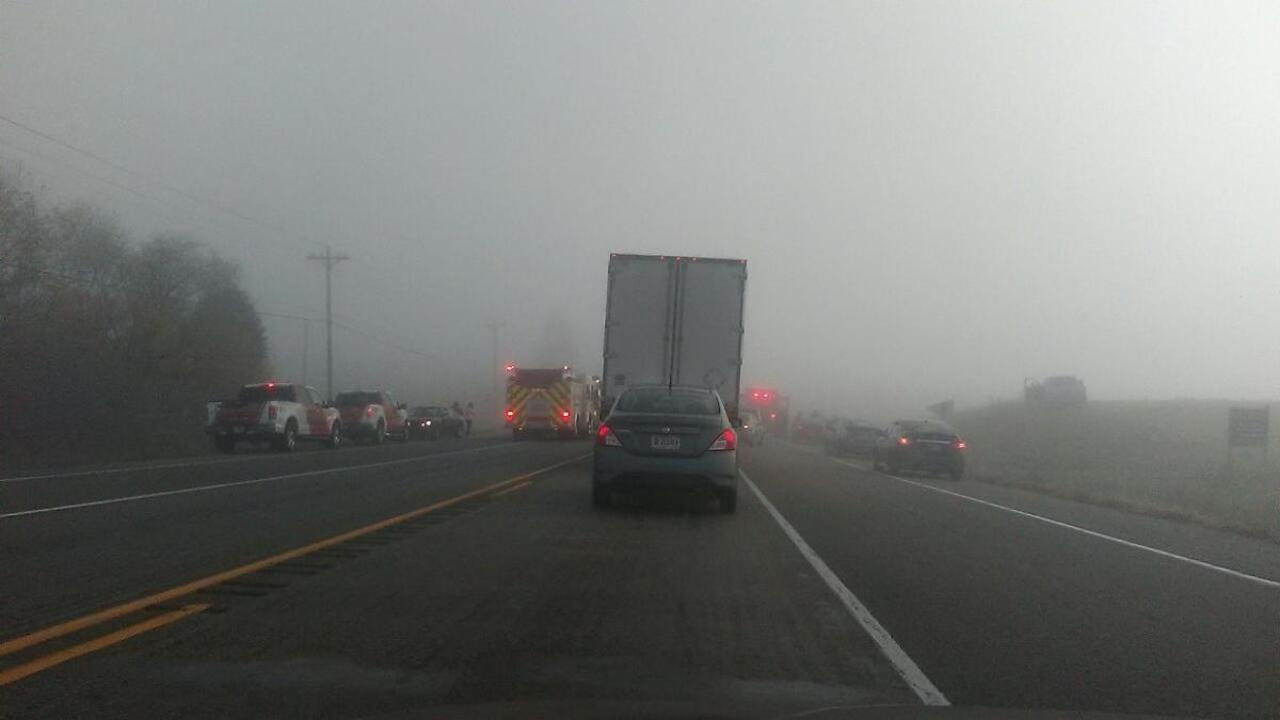car: (592, 384, 741, 515), (208, 380, 337, 446), (875, 418, 967, 480), (335, 392, 409, 438), (397, 403, 467, 441), (832, 414, 883, 456), (741, 411, 767, 447), (789, 417, 823, 443)
truck: (604, 245, 743, 457), (501, 358, 589, 437)
